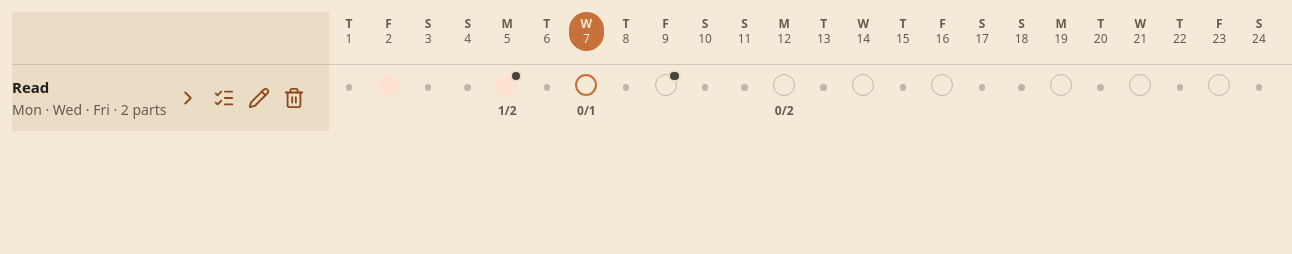
it: HabitGrid › notes on the parts’ days › on the habit’s own cell › also shows a note on a day the part is not due on
This screenshot has width=1292, height=254.
Hover over the picture named "Read, Fri 9 Oct: upcoming" at x=666, y=85, box top-left (654, 74), bottom-right (676, 96)
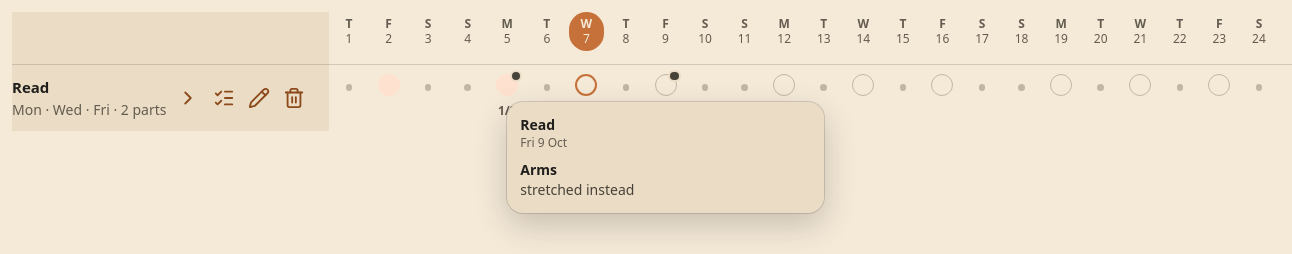
Expected: the element named "Parts, Read, Fri 9 Oct" shows "Arms", top-left (520, 160), bottom-right (557, 179)
Expected: the element named "Parts, Read, Fri 9 Oct" shows "stretched instead", top-left (520, 180), bottom-right (634, 199)
